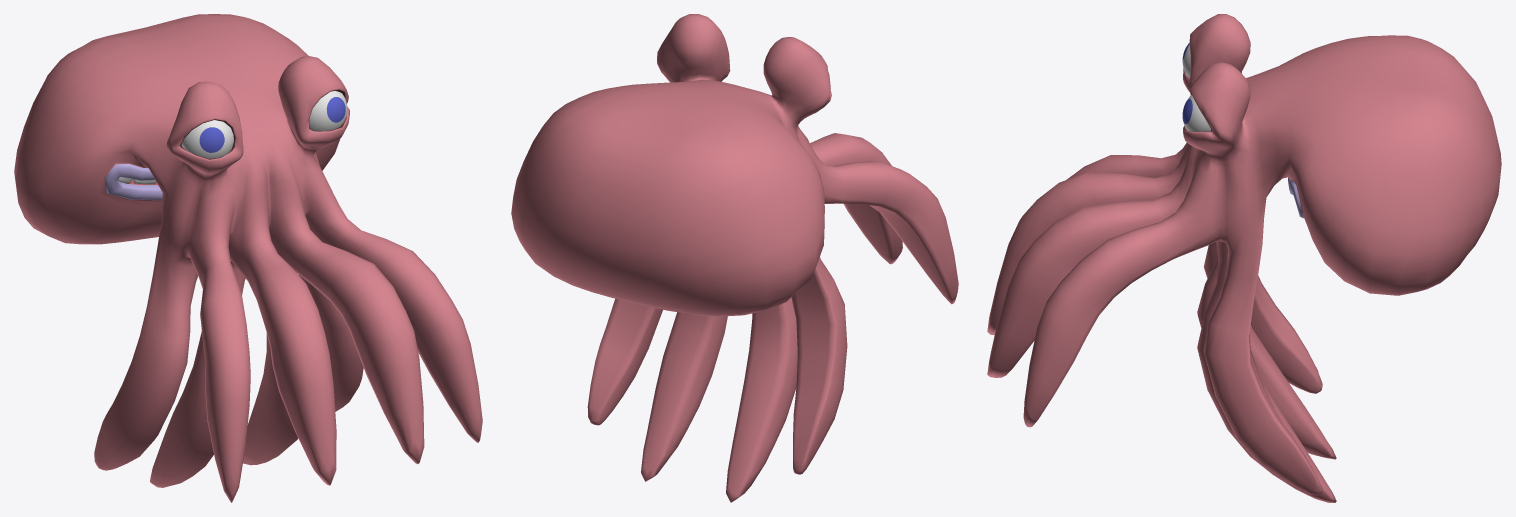
The model's file is Octopus.fbx.
3 renders of one model, left to right at view 1: azimuth 30°, elevation 25°; view 2: azimuth 150°, elevation 25°; view 3: azimuth 270°, elevation 25°, orthographic. The views are drawn at different scales.
Parts seen in each view (by area): view 1: node_id67, node_id76, node_id71, node_id78; view 2: node_id67; view 3: node_id67, node_id76.
Part boxes in pixels (x1,y1,x2,y2): node_id67: (14, 14, 482, 502); node_id76: (181, 91, 347, 158); node_id71: (105, 164, 162, 200); node_id78: (199, 97, 345, 152); node_id67: (511, 14, 958, 502); node_id67: (987, 14, 1501, 502); node_id76: (1182, 44, 1211, 131).
Bounding box in the file's own units: 0.3676 × 0.512 × 0.5416.
